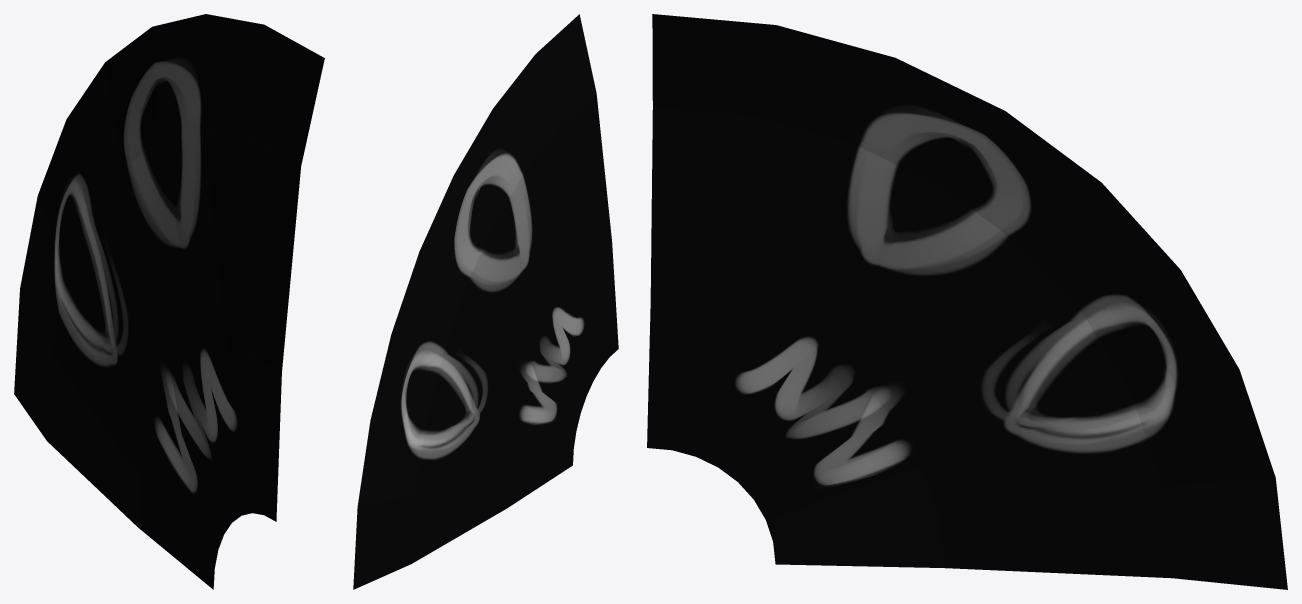
File: Sword_Ego_R01.fbx
The picture shows the model from 3 angles, left to right: view 1: azimuth 30°, elevation 25°; view 2: azimuth 150°, elevation 25°; view 3: azimuth 270°, elevation 25°; orthographic projection. The views are drawn at different scales.
Parts seen in each view (by area): view 1: Cylinder.005; view 2: Cylinder.005; view 3: Cylinder.005.
Part boxes in pixels (left/top/right/bottom): Cylinder.005: left=14, top=14, right=324, bottom=589; Cylinder.005: left=353, top=14, right=618, bottom=589; Cylinder.005: left=647, top=14, right=1287, bottom=589.
Size of the model in its own units: 101 by 9.49 by 100.
